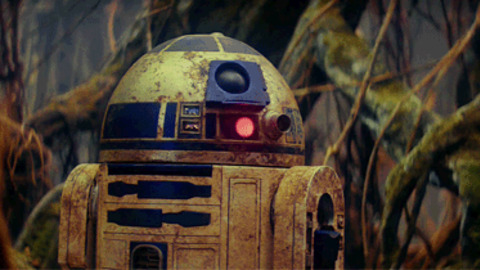r2d2: (57, 32, 346, 270)
